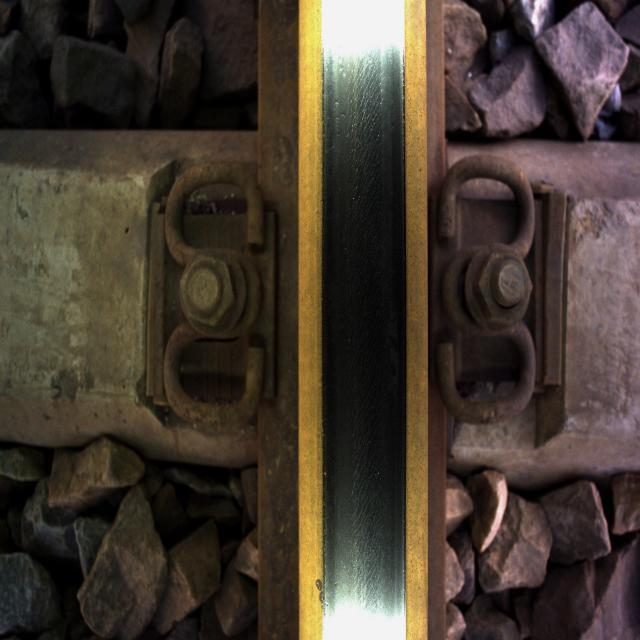break: (323, 41, 402, 605)
